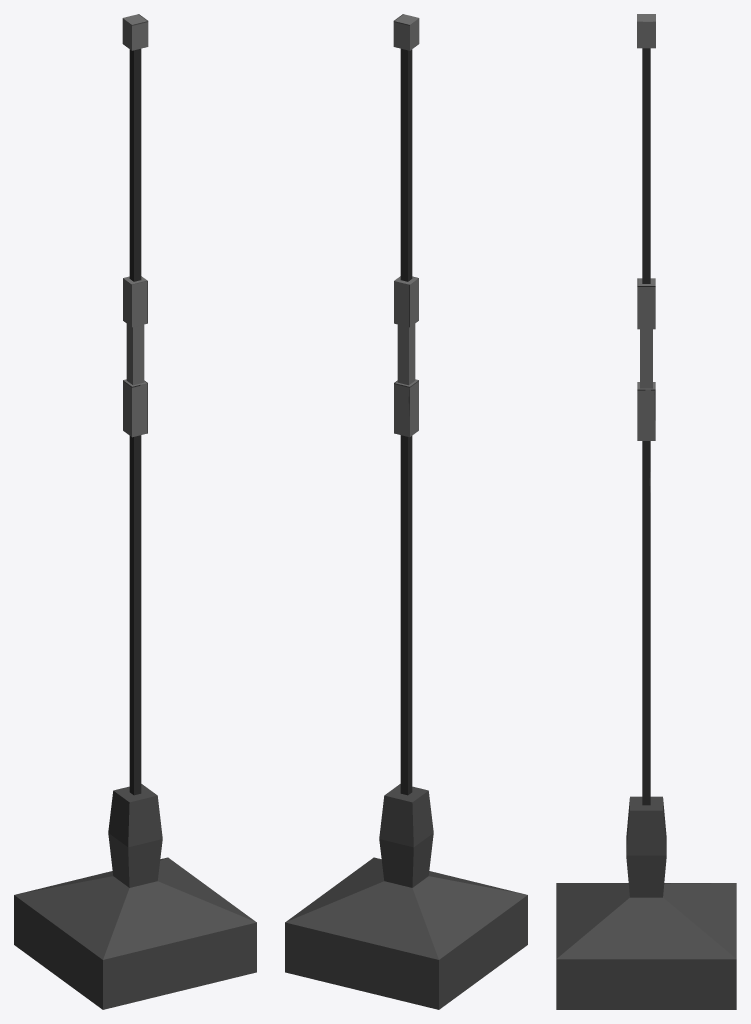
File: Antena_Rod-WarRoom.glb
3 views of the same model, side by side, from view 1: azimuth 30°, elevation 25°; view 2: azimuth 150°, elevation 25°; view 3: azimuth 270°, elevation 25° (orthographic).
Parts seen in each view (by area): view 1: Antena_rod; view 2: Antena_rod; view 3: Antena_rod.
Part boxes in pixels (x1=…): Antena_rod: x1=14, y1=14, x2=256, y2=1009; Antena_rod: x1=285, y1=14, x2=527, y2=1009; Antena_rod: x1=556, y1=14, x2=736, y2=1009.
Bounding box in the file's own units: 0.1824 × 1.06 × 0.1824.
1 material, 1 textured.
